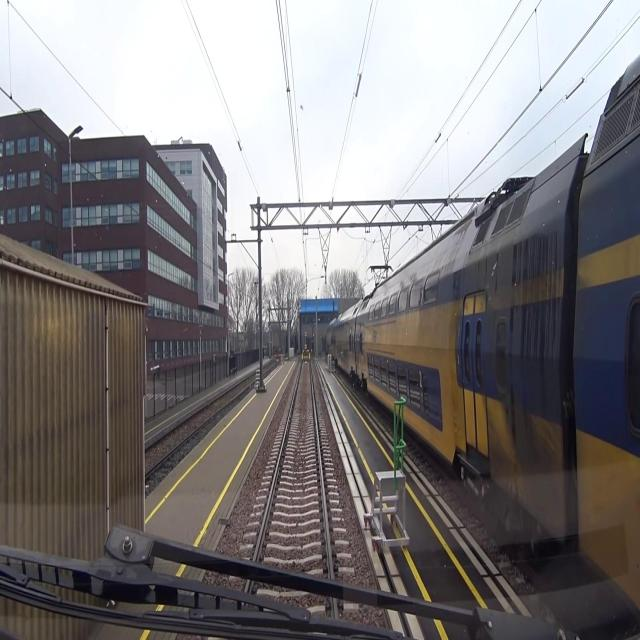rail-track: (257, 361, 329, 574), (146, 378, 251, 466)
